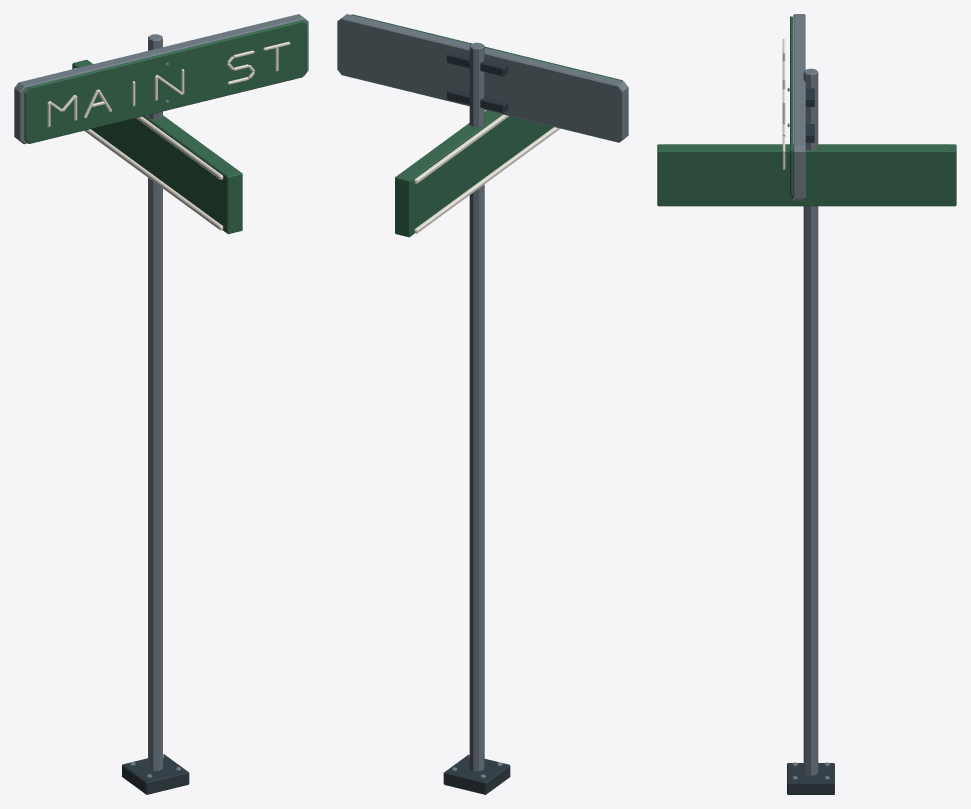
Rendered from b02_street_name_pair.glb.
The picture shows the model from 3 angles, left to right: view 1: azimuth 30°, elevation 25°; view 2: azimuth 150°, elevation 25°; view 3: azimuth 270°, elevation 25°; orthographic projection. The views are drawn at different scales.
Parts seen in each view (by area): view 1: b02_street_name_pair; view 2: b02_street_name_pair; view 3: b02_street_name_pair.
Boxes of the visible parts, left/top/right/bottom form: b02_street_name_pair: left=14, top=14, right=308, bottom=794; b02_street_name_pair: left=337, top=14, right=628, bottom=794; b02_street_name_pair: left=657, top=14, right=956, bottom=794.
Bounding box in the file's own units: 1.2 × 2.95 × 1.12.
